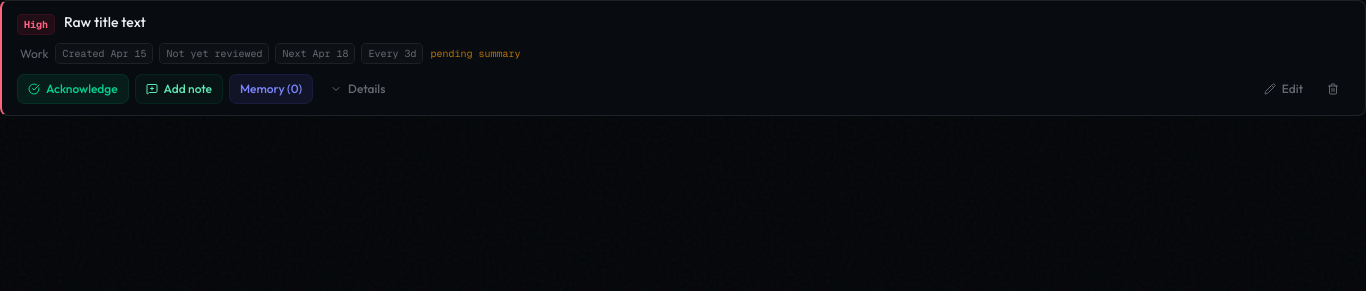
Test: TriggerCard › shows retry feedback when Generate is skipped for insufficient detail
Click the button "Details" at (358, 89), box [320,75,395,103]
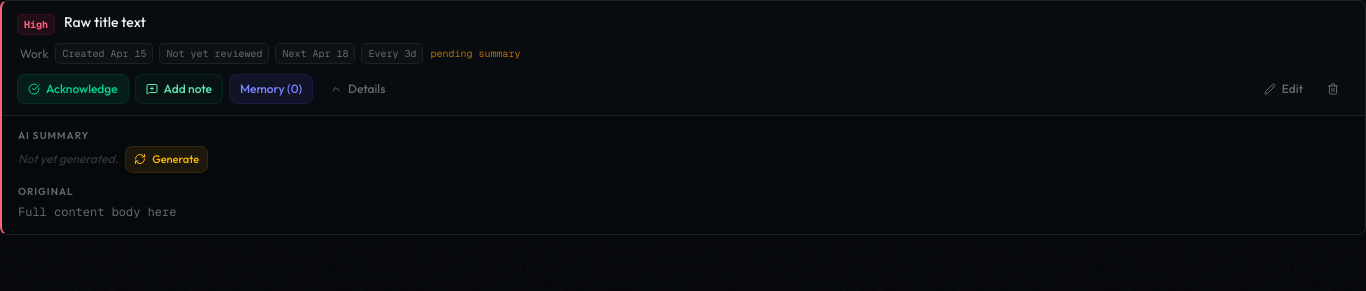
Click the button with aria-label "retry" at (167, 159), box [126,147,207,172]
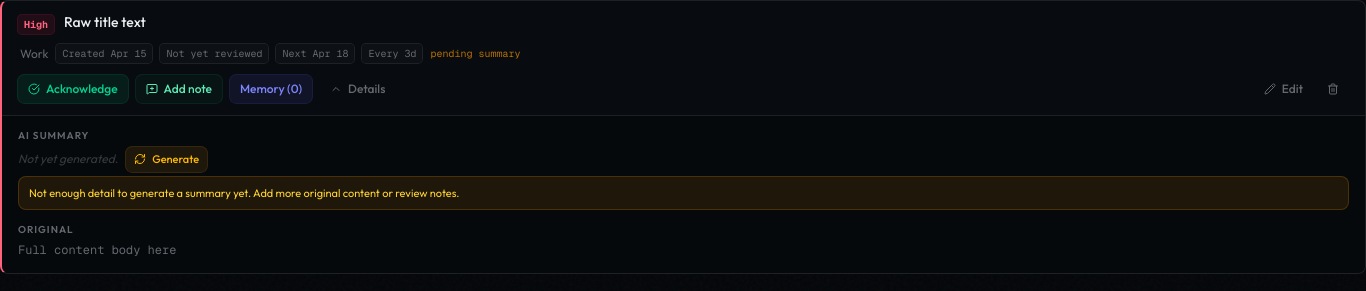
Check: the message is shown, box [18,176,1349,210]
Check: the message shows "Not enough detail", box [29,186,460,200]
